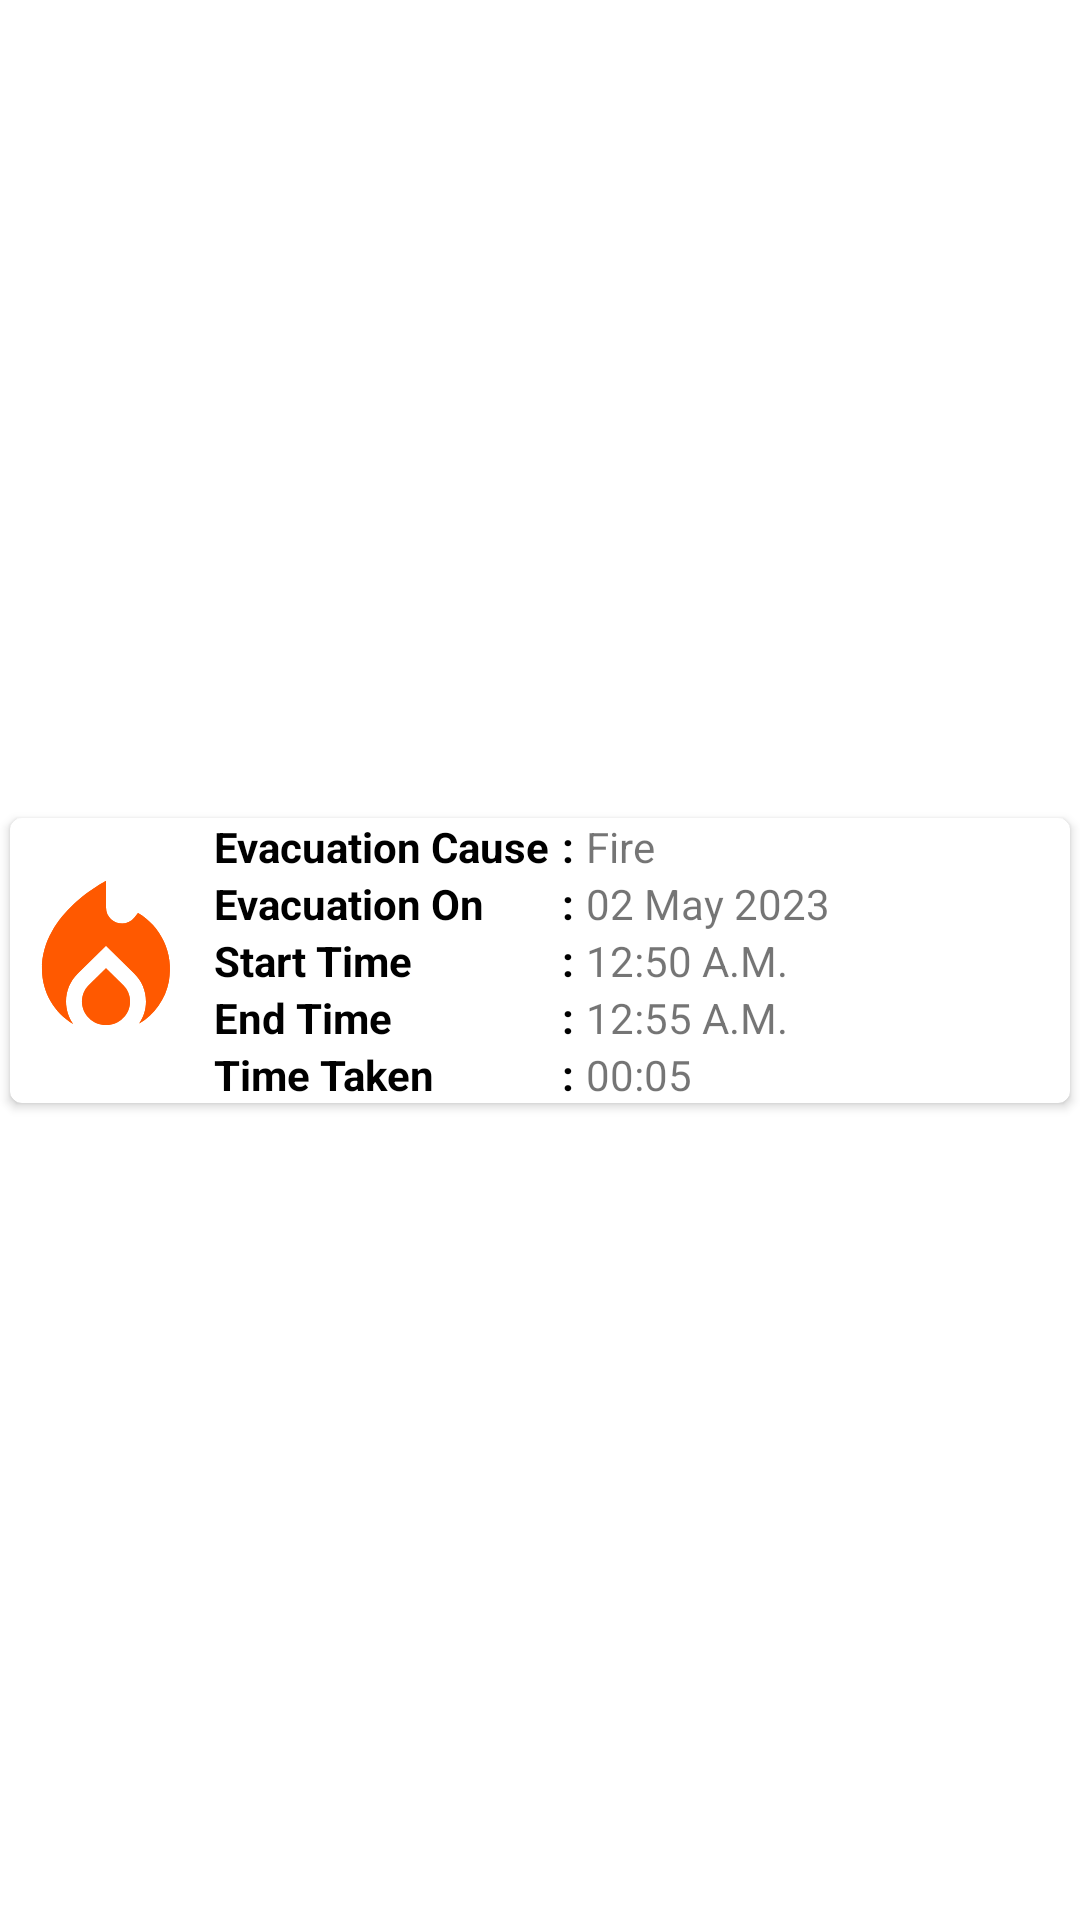

Where to tap for icons on this 1080 x 1920 app screen, as (x=x, y=y):
fire: (x=105, y=953)
